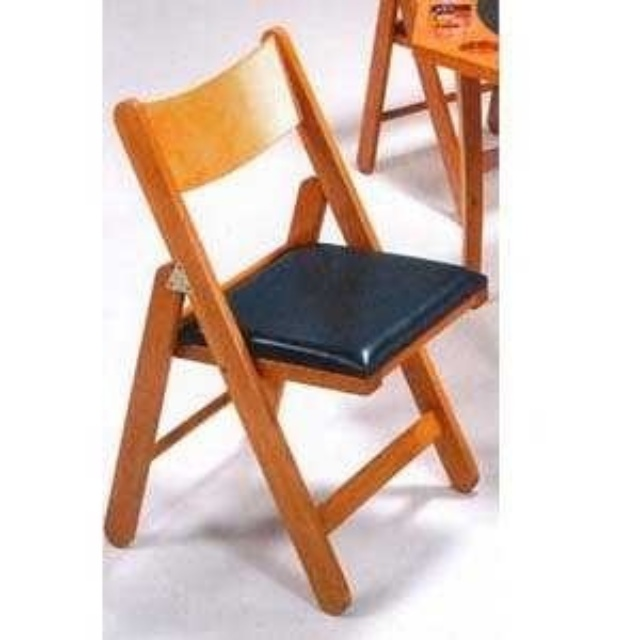obstacle: (105, 26, 484, 612)
